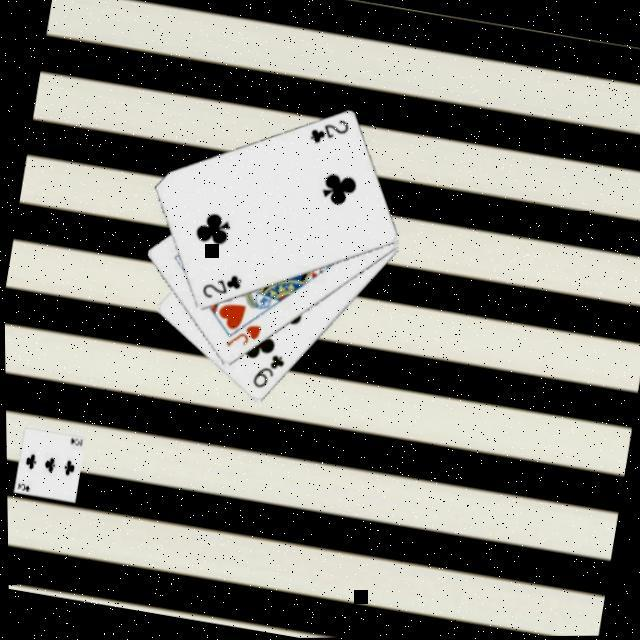2C: (194, 268, 243, 308), (303, 112, 350, 152)
9C: (245, 348, 288, 395)
JH: (219, 317, 262, 355)
